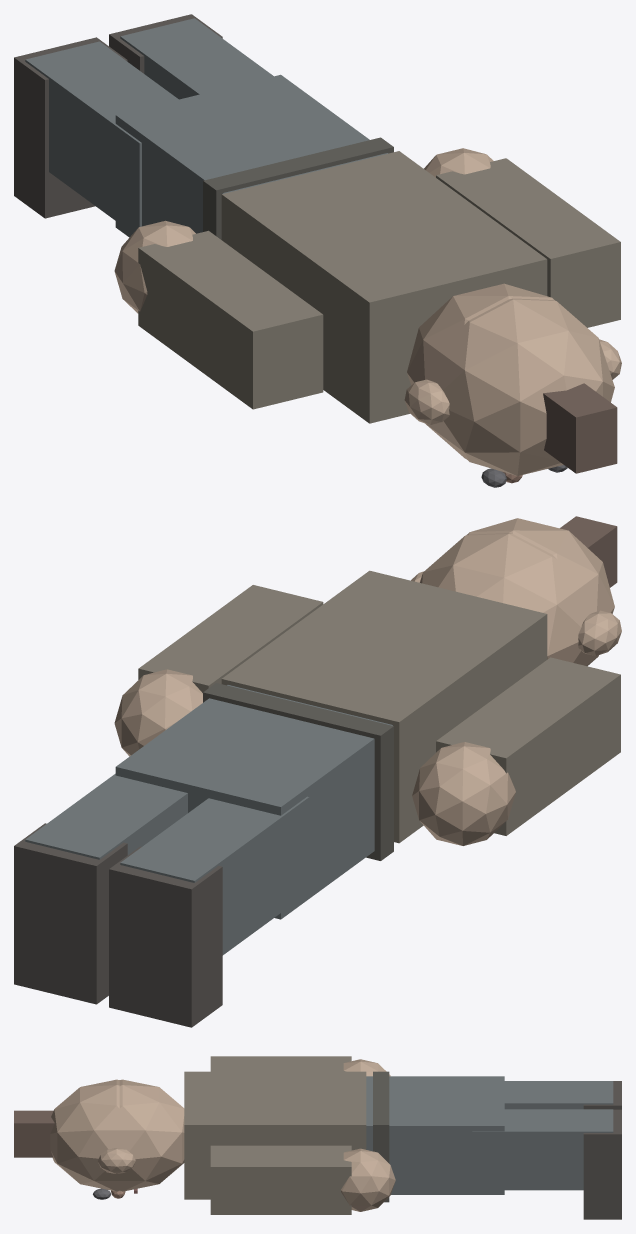
File: hair_female_mohawk.glb
The picture shows the model from 3 angles, top to bottom: view 1: azimuth 30°, elevation 25°; view 2: azimuth 150°, elevation 25°; view 3: azimuth 270°, elevation 25°; orthographic projection. The views are drawn at different scales.
Visible parts, largest first — view 1: part_00, part_06, part_02, part_01, part_04, part_12, part_10, part_05, part_19, part_03, part_18, part_07 (+3 smaller); view 2: part_00, part_01, part_06, part_05, part_04, part_11, part_03, part_12, part_07, part_10, part_18, part_13 (+3 smaller); view 3: part_00, part_01, part_12, part_10, part_02, part_03, part_11, part_04, part_13, part_06, part_19, part_18 (+3 smaller).
Part boxes in pixels (x1,y1,x2,y2): part_00: (221, 151, 547, 423); part_06: (138, 230, 323, 409); part_02: (428, 298, 614, 475); part_01: (115, 74, 388, 237); part_04: (25, 41, 178, 233); part_12: (436, 158, 620, 327); part_10: (120, 18, 273, 99); part_05: (14, 37, 127, 218); part_19: (543, 383, 617, 473); part_03: (407, 283, 554, 458); part_18: (203, 137, 393, 239); part_07: (114, 220, 195, 313); part_00: (221, 570, 547, 843); part_01: (115, 685, 392, 919); part_06: (436, 657, 620, 835); part_05: (109, 846, 222, 1027); part_04: (120, 796, 309, 955); part_11: (14, 823, 127, 1004); part_03: (420, 533, 593, 665); part_12: (138, 585, 323, 692); part_07: (412, 742, 515, 845); part_10: (25, 773, 187, 859); part_18: (203, 683, 393, 860); part_13: (114, 669, 202, 756); part_00: (184, 1071, 366, 1199); part_01: (366, 1076, 504, 1194); part_12: (210, 1145, 351, 1214); part_10: (472, 1109, 613, 1190); part_02: (50, 1079, 139, 1191); part_03: (100, 1079, 184, 1191); part_11: (583, 1109, 621, 1219); part_04: (504, 1081, 613, 1109); part_13: (341, 1148, 395, 1211); part_06: (210, 1056, 351, 1071); part_19: (14, 1110, 54, 1157); part_18: (373, 1071, 389, 1202).
Bounding box in the file's own units: 0.93 × 0.425 × 2.07.
